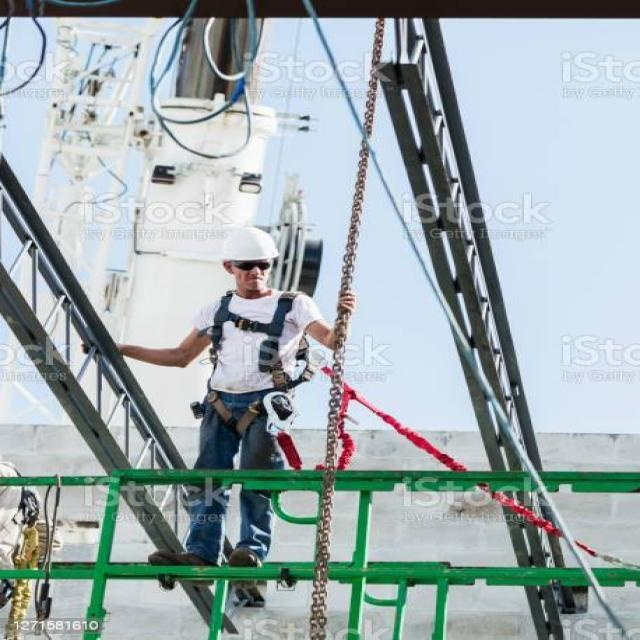Arnes_seguridad: (187, 286, 311, 440)
